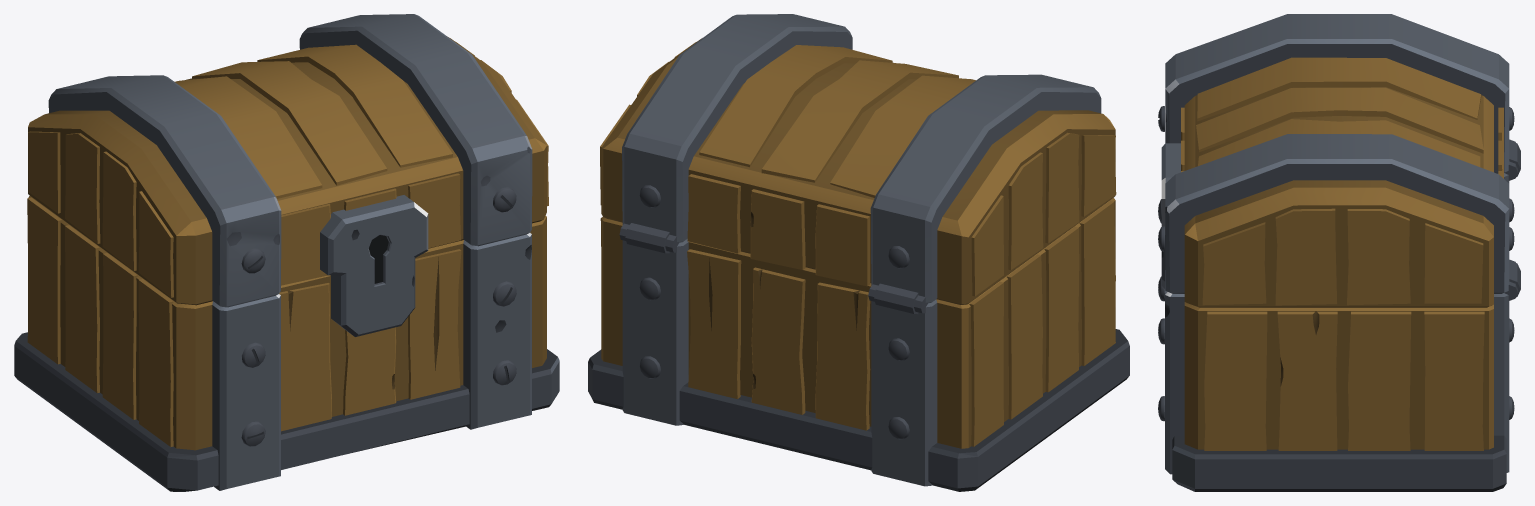
The model's file is Icon_Box_BOXNORMAL_G1_01_02_outline.fbx.
3 renders of one model, left to right at view 1: azimuth 30°, elevation 25°; view 2: azimuth 150°, elevation 25°; view 3: azimuth 270°, elevation 25°, orthographic. The views are drawn at different scales.
Parts seen in each view (by area): view 1: Icon_Box_BOXNORMAL_G1_01 (×2), Object005; view 2: Icon_Box_BOXNORMAL_G1_01 (×2); view 3: Icon_Box_BOXNORMAL_G1_01 (×2), Object005.
Boxes of the visible parts, x1,y1,x2,y2 form: Icon_Box_BOXNORMAL_G1_01 (×2): (14,14,559,491); Object005: (320,195,428,336); Icon_Box_BOXNORMAL_G1_01 (×2): (588,14,1129,491); Icon_Box_BOXNORMAL_G1_01 (×2): (1158,14,1520,491); Object005: (1161,143,1180,288).
Size of the model in its own units: 176 by 136 by 143.
1 material, 1 textured.
